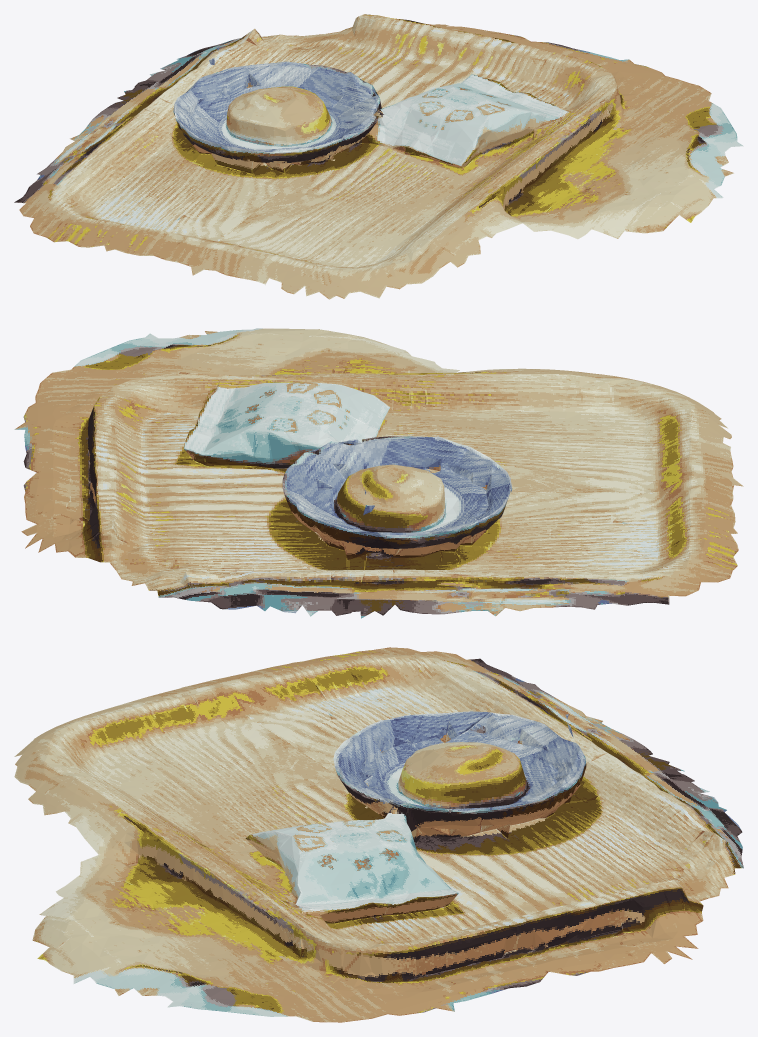
The model's file is manju.glb.
The picture shows the model from 3 angles, top to bottom: view 1: azimuth 30°, elevation 25°; view 2: azimuth 150°, elevation 25°; view 3: azimuth 270°, elevation 25°; orthographic projection. The views are drawn at different scales.
Parts seen in each view (by area): view 1: model_buns; view 2: model_buns; view 3: model_buns.
Part boxes in pixels (x1,y1,x2,y2): model_buns: (14, 14, 743, 299); model_buns: (14, 328, 743, 618); model_buns: (14, 647, 743, 1022).
Bounding box in the file's own units: 151 × 17.55 × 122.
1 material, 1 textured.
